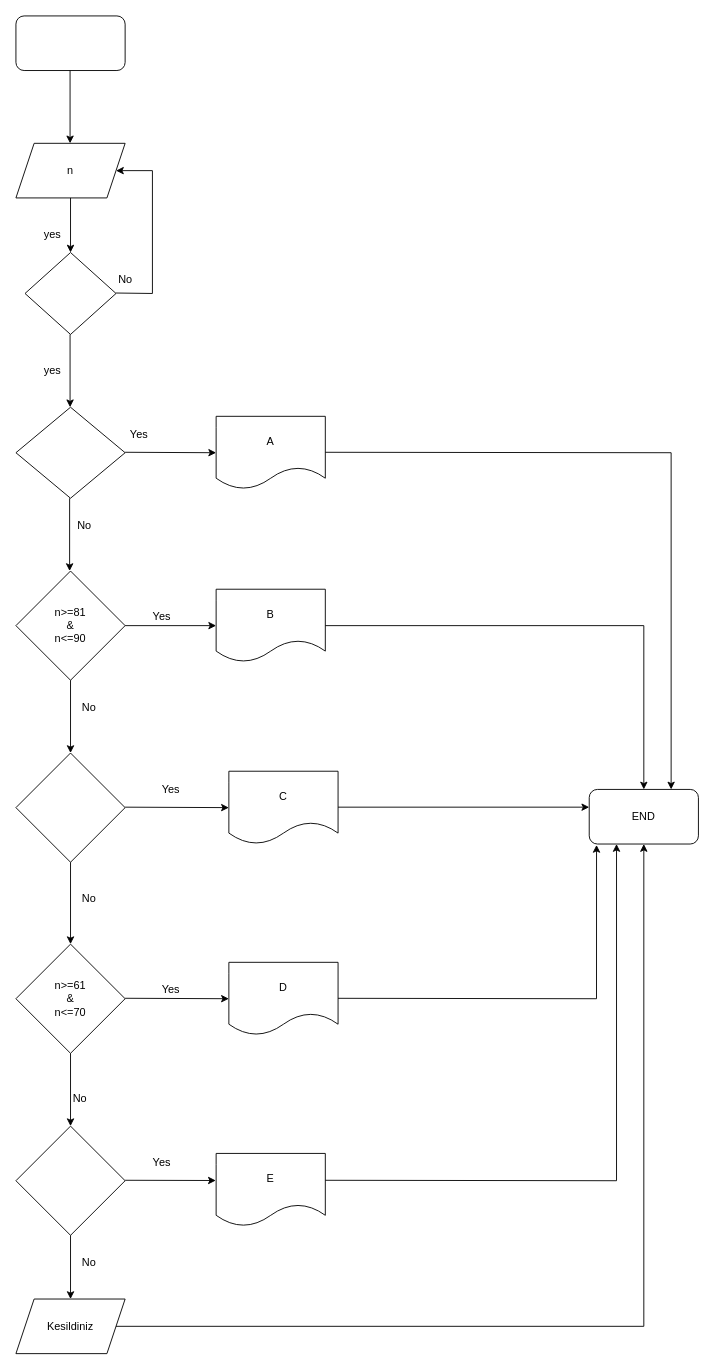
Image size: 714x1370. Some labels were removed from this diagram. Each missing label, with the centre of its shape:
0<=n<=100: point 70,293
n>=51 & n<=60: point 70,1180
n>=71 & n<=80: point 70,807
n>=91 & n<=100: point 70,452
Start: point 70,43
